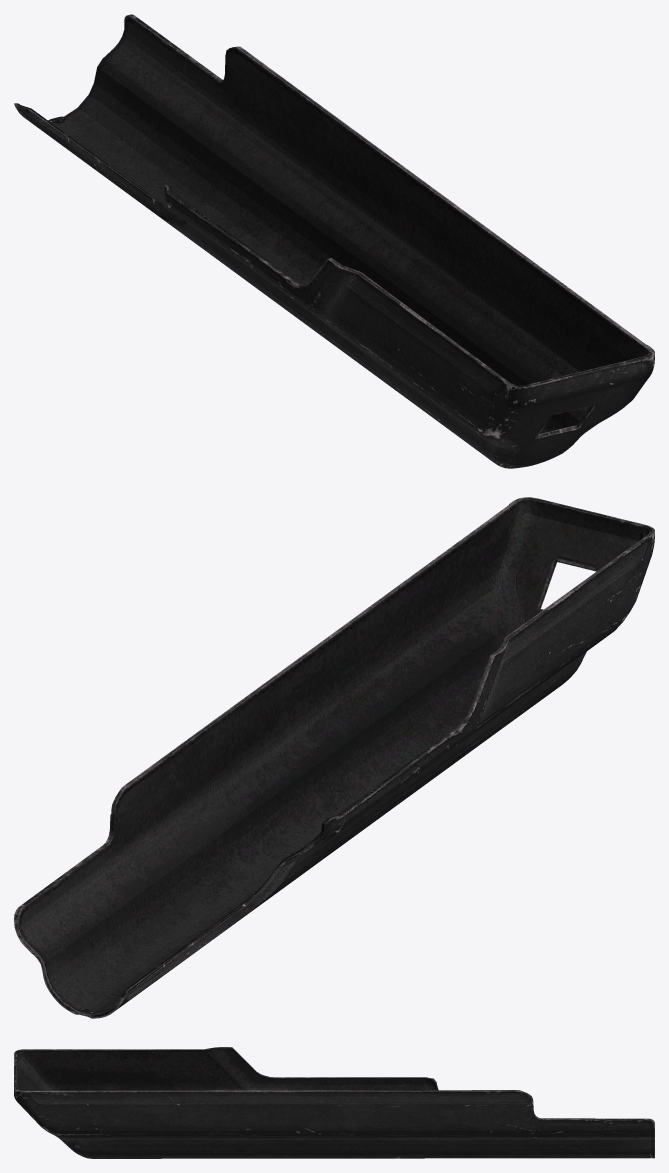
3 renders of one model, top to bottom at view 1: azimuth 30°, elevation 25°; view 2: azimuth 150°, elevation 25°; view 3: azimuth 270°, elevation 25°, orthographic. The views are drawn at different scales.
Parts seen in each view (by area): view 1: TW_5ac50da15acfc4001718d287_PZ_Import; view 2: TW_5ac50da15acfc4001718d287_PZ_Import; view 3: TW_5ac50da15acfc4001718d287_PZ_Import.
Boxes of the visible parts, x1=… form: TW_5ac50da15acfc4001718d287_PZ_Import: x1=14, y1=14, x2=654, y2=468; TW_5ac50da15acfc4001718d287_PZ_Import: x1=14, y1=497, x2=654, y2=1018; TW_5ac50da15acfc4001718d287_PZ_Import: x1=14, y1=1047, x2=654, y2=1158.
Size of the model in its own units: 0.0224 by 0.1356 by 0.0201.
1 material, 1 textured.
